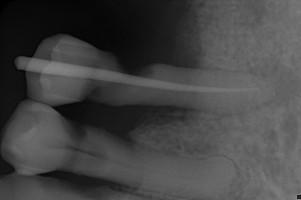Furcation Involvement: (241, 58, 301, 108)
